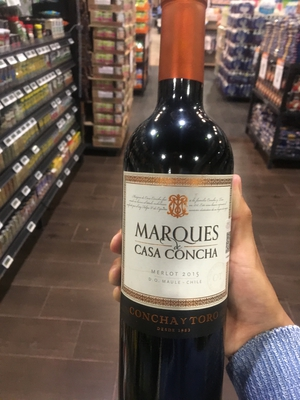marques de casa concha merlot: (119, 16, 249, 400)
